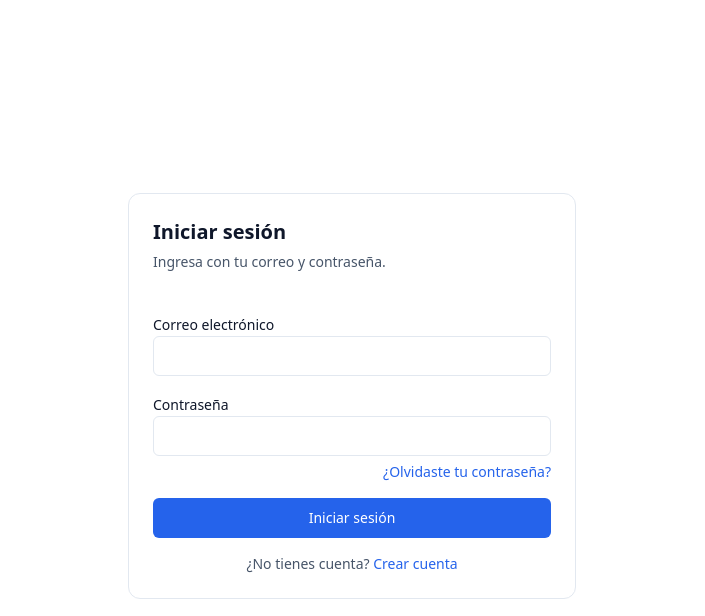
LoginPage › logs in and lands on the space picker (AC-F0.3)
Type "ana@demo.test" into the field labelled "Correo electrónico" at (352, 356), box [153,336,551,376]
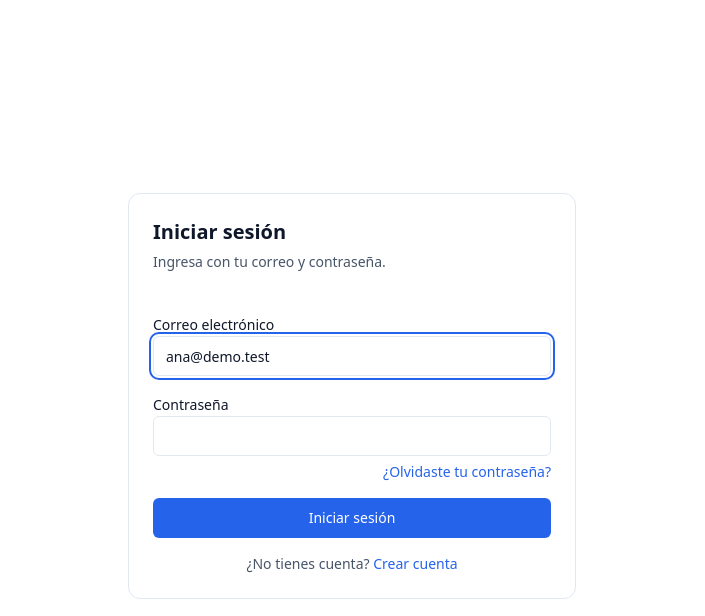
Type "DevDemo123!" into the password field labelled "Contraseña" at (352, 436), box [153,416,551,456]
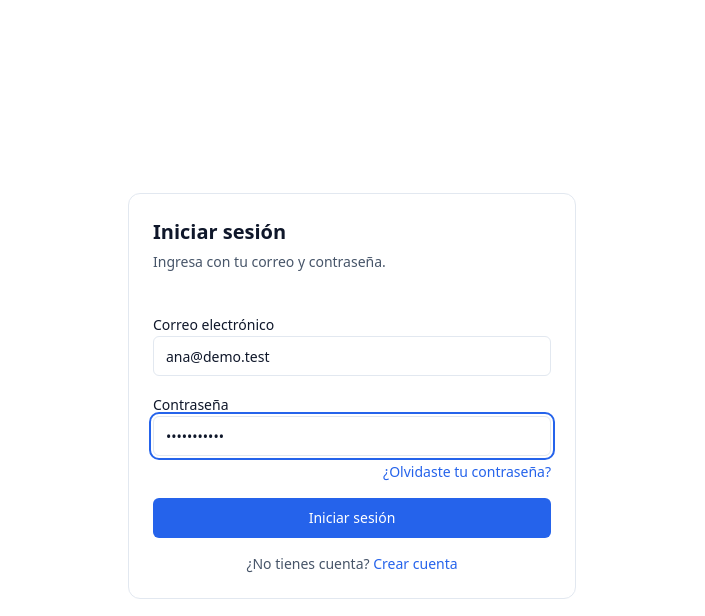
Click the button "Iniciar sesión" at (352, 518), box [153,498,551,538]
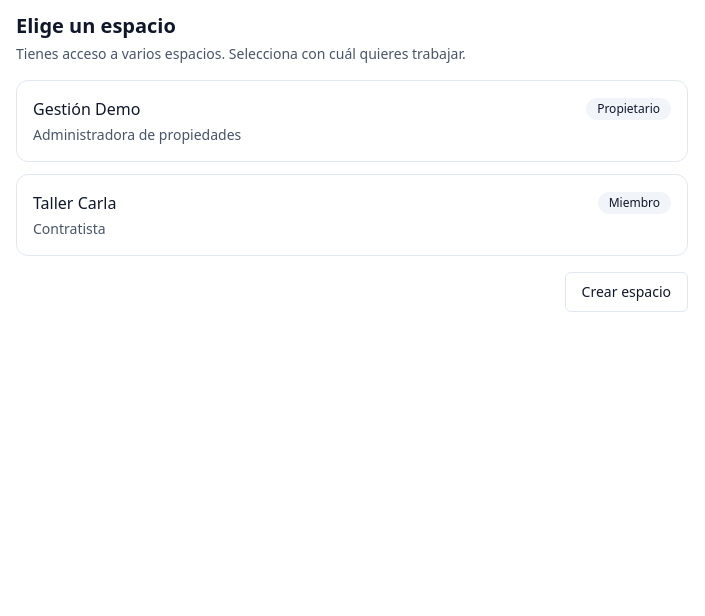
Now the heading "Elige un espacio" is shown, box [16,12,176,39]
